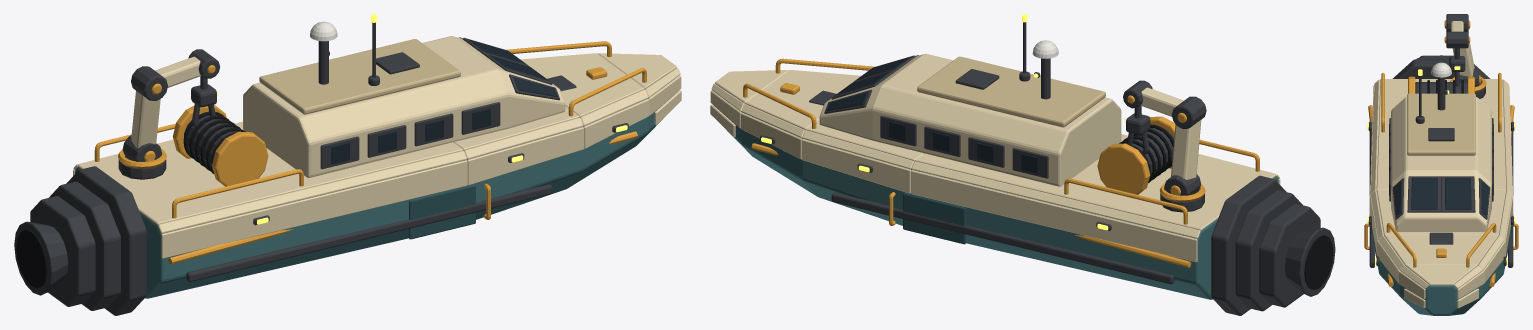
Rendered from yacht.glb.
3 renders of one model, left to right at view 1: azimuth 30°, elevation 25°; view 2: azimuth 150°, elevation 25°; view 3: azimuth 270°, elevation 25°, orthographic. The views are drawn at different scales.
Visible parts, largest first — view 1: hull body, drive body, crane body; view 2: hull body, drive body, crane body; view 3: hull body, crane body, drive body.
Boxes of the visible parts, <box> form: hull body: <box>73,21,681,298</box>; drive body: <box>14,166,146,315</box>; crane body: <box>118,49,219,179</box>; hull body: <box>710,22,1280,299</box>; drive body: <box>1211,175,1335,315</box>; crane body: <box>1123,80,1206,212</box>; hull body: <box>1364,62,1518,315</box>; crane body: <box>1444,14,1486,98</box>; drive body: <box>1392,55,1490,78</box>.
Size of the model in its own units: 10.53 by 3.69 by 2.91.
